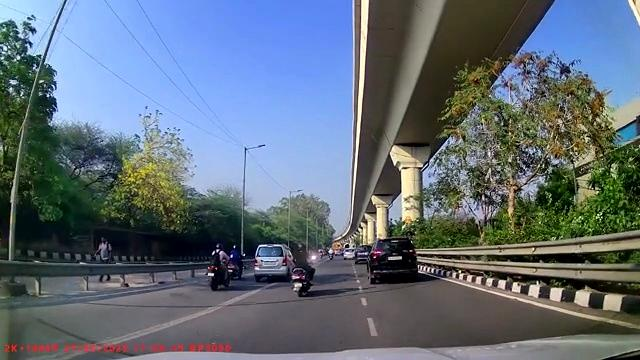motorcycle_with_helmet: (291, 242, 316, 297), (204, 241, 231, 291)
